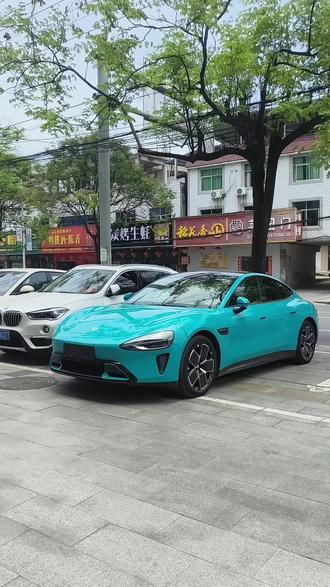other: (2, 259, 178, 352)
su7: (51, 265, 314, 399)
